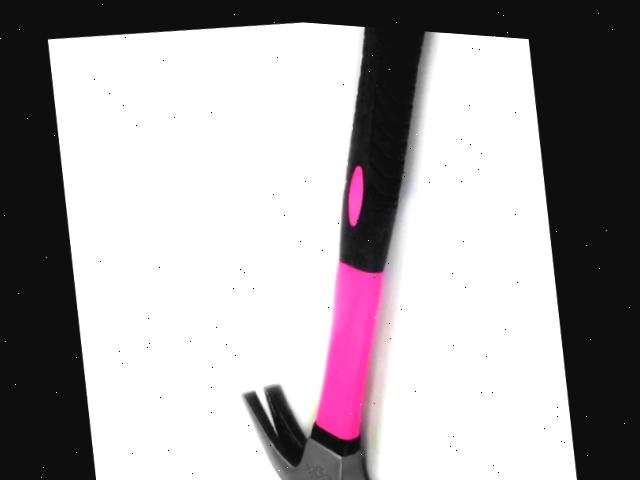hammer: (184, 11, 522, 480)
